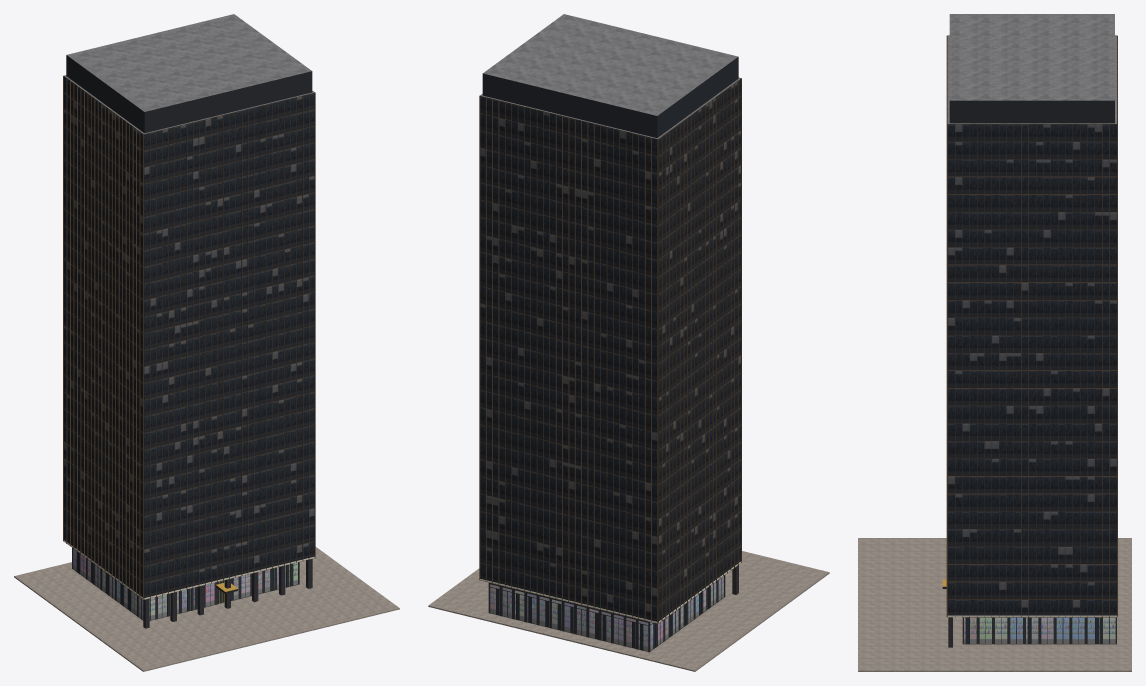
The model's file is hd18_dark_glass_office.gltf.
The picture shows the model from 3 angles, left to right: view 1: azimuth 30°, elevation 25°; view 2: azimuth 150°, elevation 25°; view 3: azimuth 270°, elevation 25°; orthographic projection. The views are drawn at different scales.
Parts seen in each view (by area): view 1: hd18_dark_glass_office_LOD0; view 2: hd18_dark_glass_office_LOD0; view 3: hd18_dark_glass_office_LOD0.
Boxes of the visible parts, left/top/right/bottom form: hd18_dark_glass_office_LOD0: left=14, top=14, right=399, bottom=671; hd18_dark_glass_office_LOD0: left=428, top=14, right=829, bottom=671; hd18_dark_glass_office_LOD0: left=858, top=14, right=1131, bottom=671.
Size of what is drawn, in the model's own units: 63 by 121 by 55.
12 materials, 7 textured.
